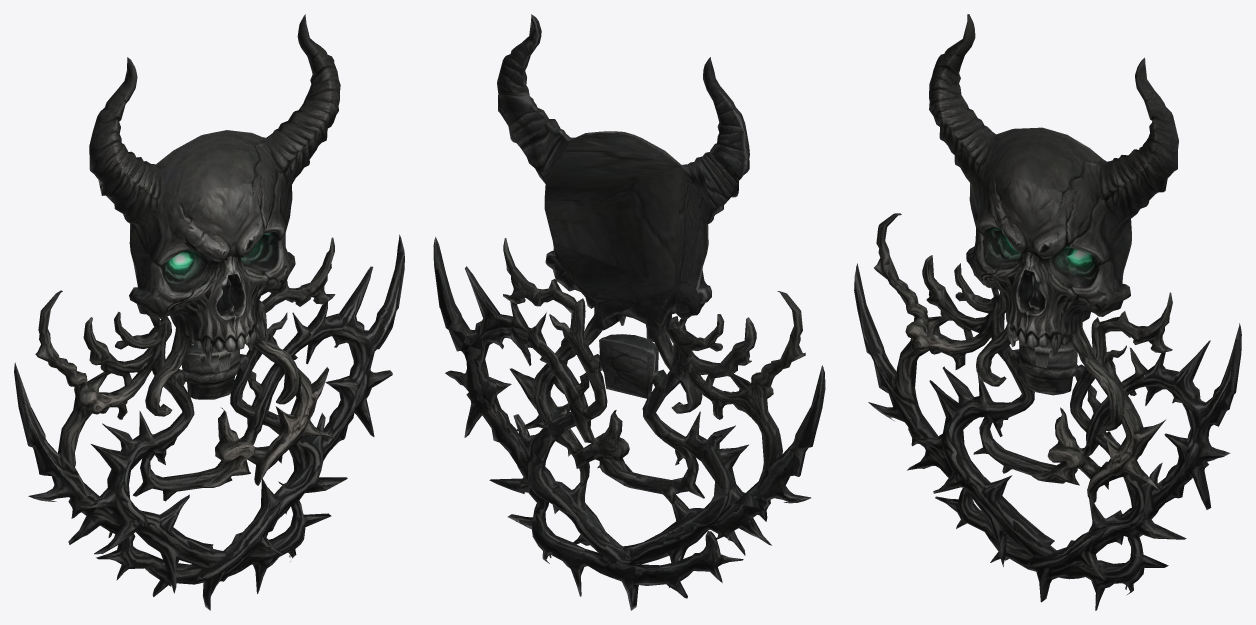
File: plague.glb
3 views of the same model, side by side, from view 1: azimuth 30°, elevation 25°; view 2: azimuth 150°, elevation 25°; view 3: azimuth 330°, elevation 25° (orthographic).
Parts seen in each view (by area): view 1: Mesh_0; view 2: Mesh_0; view 3: Mesh_0.
Part boxes in pixels (x1,y1,x2,y2): Mesh_0: [14, 14, 404, 610]; Mesh_0: [433, 14, 825, 610]; Mesh_0: [854, 14, 1241, 610].
Size of the model in its own units: 1.36 by 1.9 by 0.1653.
1 material, 1 textured.
